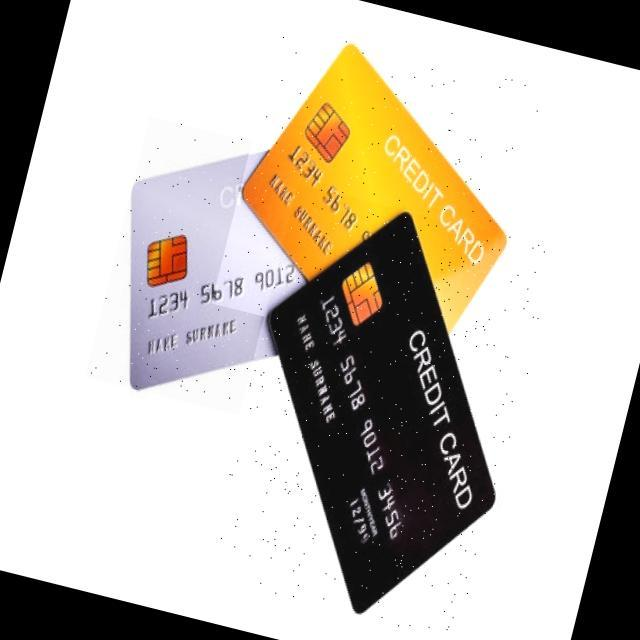payment_card: (265, 210, 497, 613), (239, 41, 507, 328), (130, 153, 309, 391)
